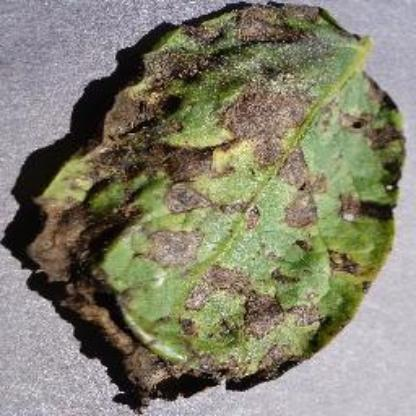Early-Blight: (32, 3, 408, 405)
